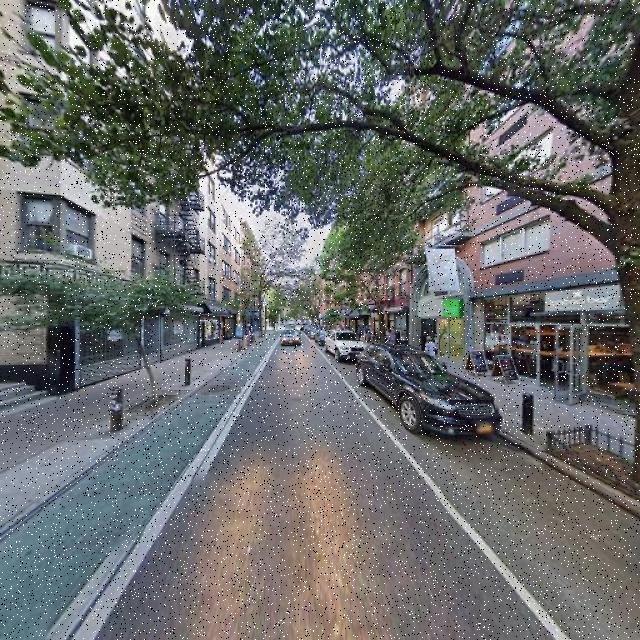Building: (413, 1, 640, 424), (62, 1, 198, 389)
